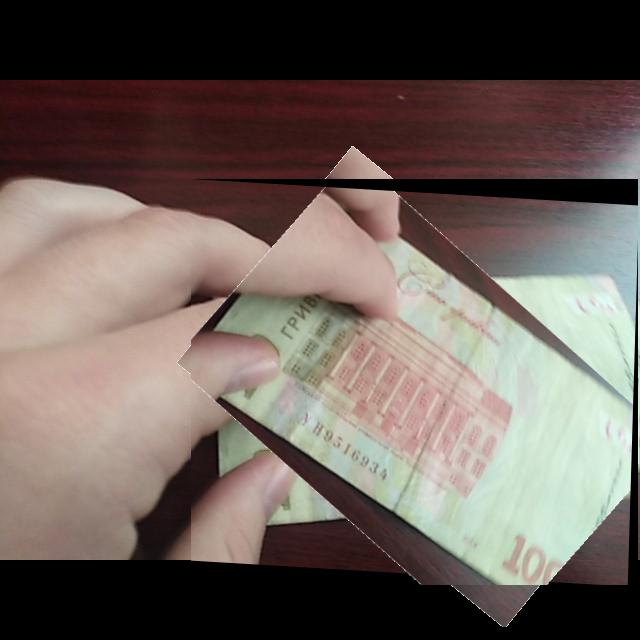100uah: (191, 185, 634, 586)
